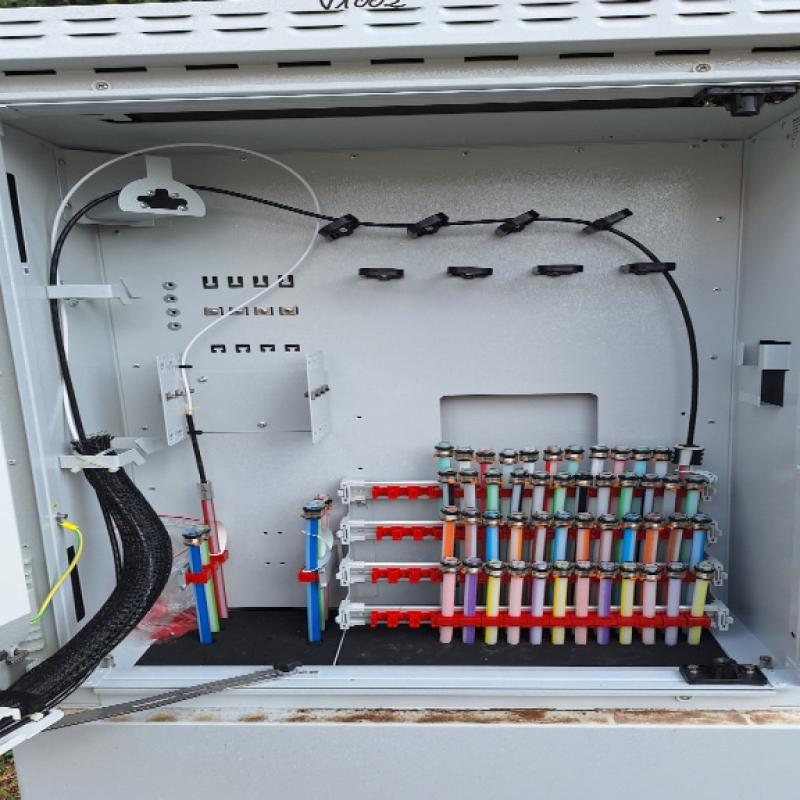NT-Gehause: (0, 19, 800, 790)
